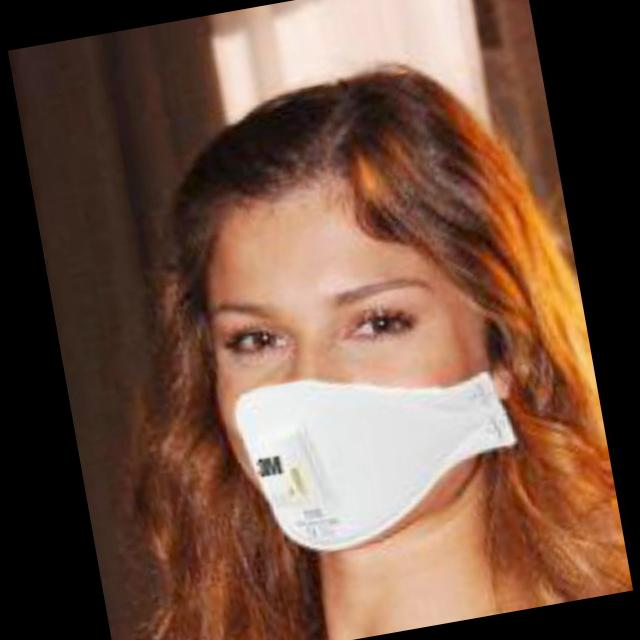suspicion: (159, 115, 553, 577)
